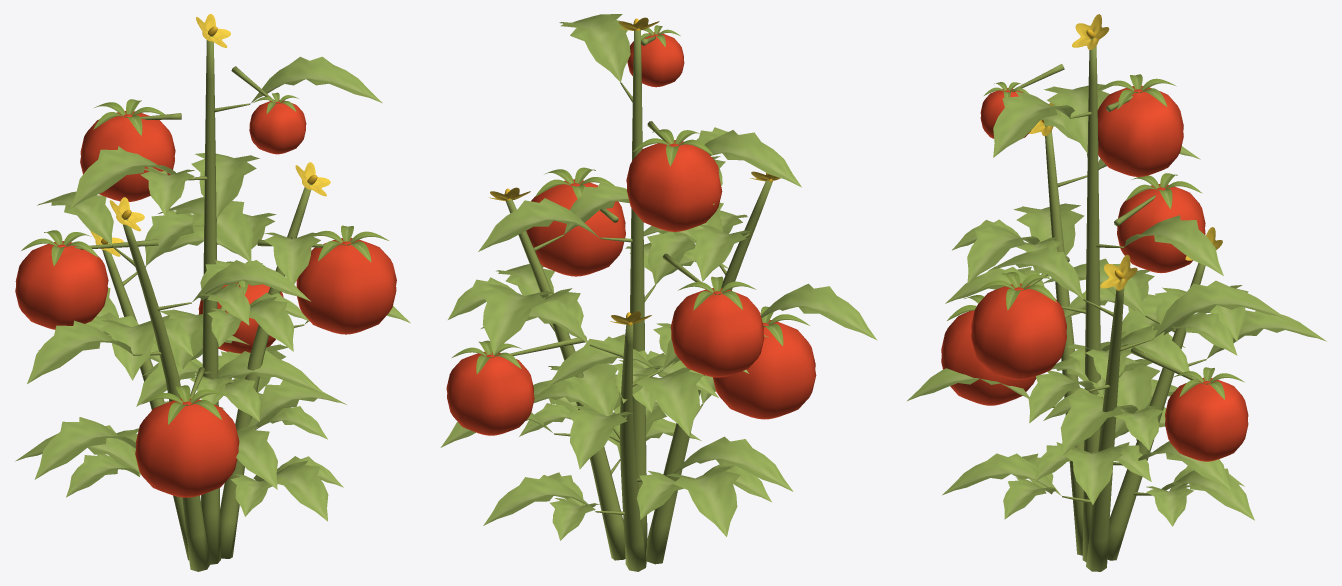
Rendered from tomato_mature.glb.
The picture shows the model from 3 angles, left to right: view 1: azimuth 30°, elevation 25°; view 2: azimuth 150°, elevation 25°; view 3: azimuth 270°, elevation 25°; orthographic projection.
Visible parts, largest first — view 1: leaves, fruit, stems, flowers; view 2: leaves, fruit, stems, flowers; view 3: leaves, fruit, stems, flowers.
Boxes of the visible parts, <box> form: leaves: <box>15,56,410,521</box>; fruit: <box>15,92,396,497</box>; stems: <box>74,36,324,571</box>; flowers: <box>90,14,330,256</box>; leaves: <box>440,14,877,540</box>; fruit: <box>446,25,816,435</box>; stems: <box>505,29,772,571</box>; flowers: <box>489,17,780,326</box>; leaves: <box>907,84,1326,526</box>; fruit: <box>941,74,1248,461</box>; stems: <box>1010,37,1206,571</box>; flowers: <box>1028,14,1222,290</box>.
Bounding box in the file's own units: 0.7681 × 1.05 × 0.7419.
